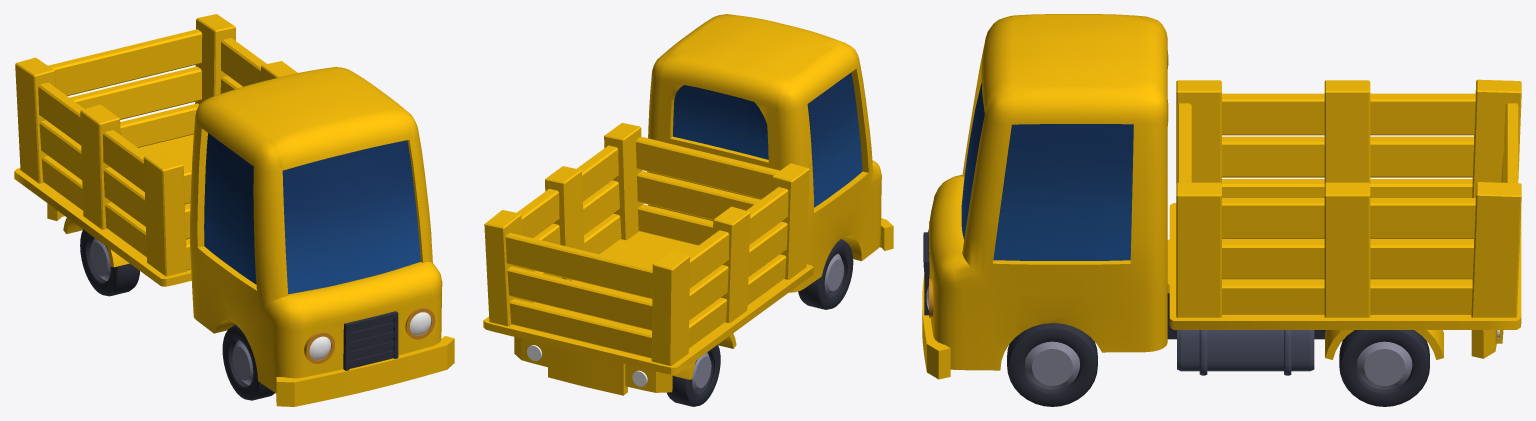
The model's file is Car_6.fbx.
3 renders of one model, left to right at view 1: azimuth 30°, elevation 25°; view 2: azimuth 150°, elevation 25°; view 3: azimuth 270°, elevation 25°, orthographic. The views are drawn at different scales.
Visible parts, largest first — view 1: Circle; view 2: Circle; view 3: Circle.
Boxes of the visible parts, x1,y1,x2,y2 form: Circle: [14, 14, 454, 406]; Circle: [483, 14, 893, 406]; Circle: [922, 14, 1521, 406].
Bounding box in the file's own units: 530 × 668 × 1136.
1 material, 1 textured.
